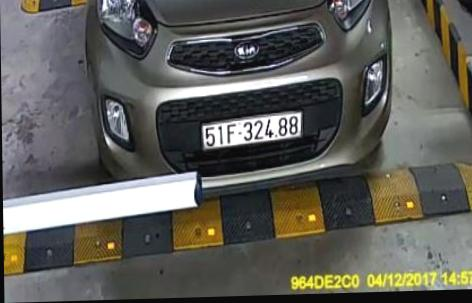License_Plate: (197, 112, 313, 152)
